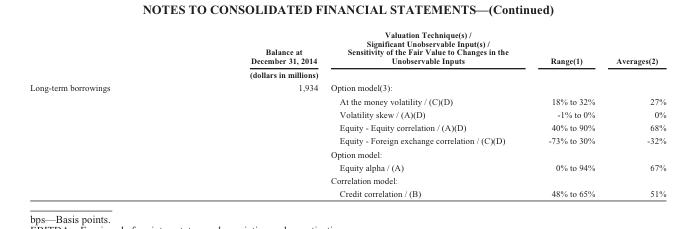table: (29, 29, 665, 198)
table column: (323, 29, 527, 198), (29, 29, 179, 198), (179, 29, 323, 198), (527, 29, 604, 198), (604, 29, 665, 198)
table column header: (29, 29, 665, 80)
table row: (29, 29, 665, 80), (29, 80, 665, 94), (29, 133, 665, 147), (29, 94, 665, 107), (29, 107, 665, 120), (29, 120, 665, 133), (29, 147, 665, 160), (29, 160, 665, 173), (29, 173, 665, 186), (29, 186, 665, 198)
